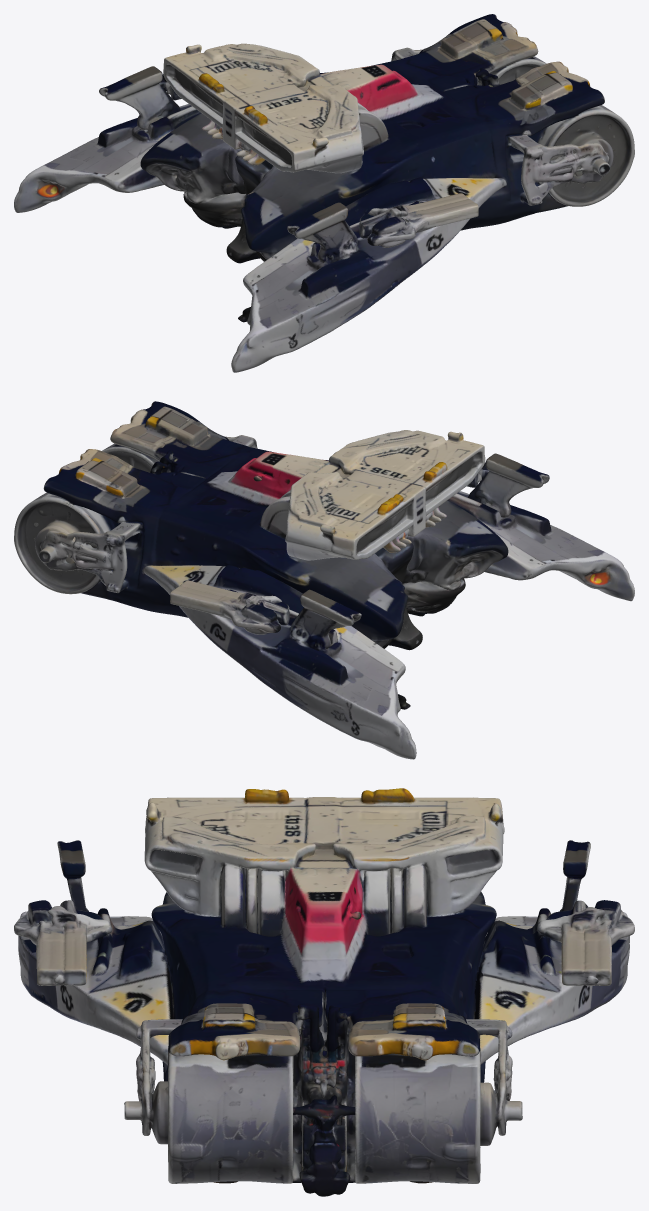
Rendered from sci-fi tank 3d model.glb.
3 renders of one model, top to bottom at view 1: azimuth 30°, elevation 25°; view 2: azimuth 150°, elevation 25°; view 3: azimuth 270°, elevation 25°, orthographic. The views are drawn at different scales.
Parts seen in each view (by area): view 1: tripo_node_135393c8-e4f6-4f55-83cf-4c56574f1b1b; view 2: tripo_node_135393c8-e4f6-4f55-83cf-4c56574f1b1b; view 3: tripo_node_135393c8-e4f6-4f55-83cf-4c56574f1b1b.
Part boxes in pixels (x1,y1,x2,y2): tripo_node_135393c8-e4f6-4f55-83cf-4c56574f1b1b: (14,14,634,372); tripo_node_135393c8-e4f6-4f55-83cf-4c56574f1b1b: (14,401,634,759); tripo_node_135393c8-e4f6-4f55-83cf-4c56574f1b1b: (14,788,634,1196).
Size of the model in its own units: 1 by 0.4764 by 0.8718.
Materials: 1 (1 with a texture image).
